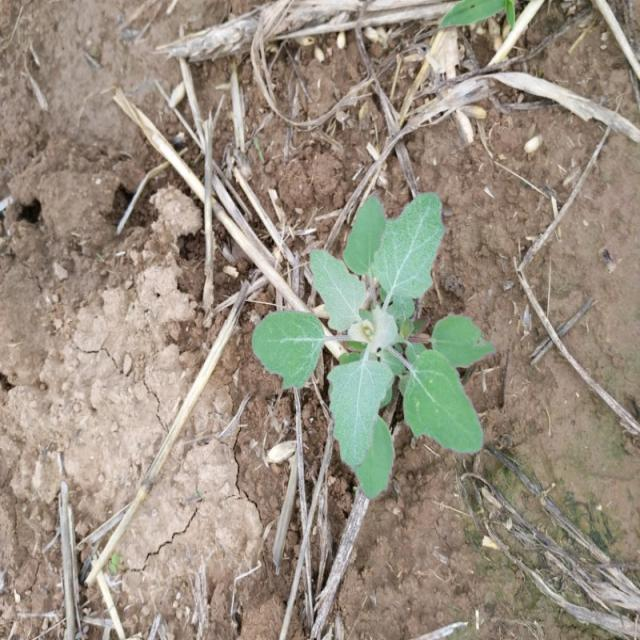goosefoots: (242, 190, 484, 487)
